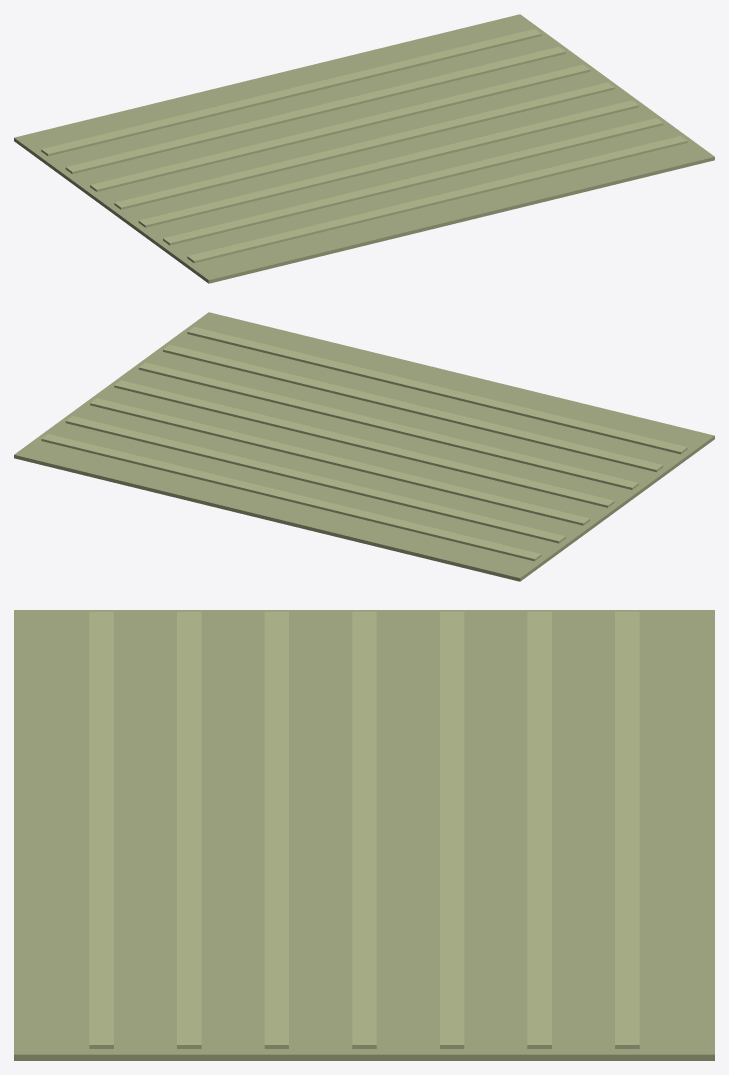
Rendered from crop-1.glb.
3 renders of one model, top to bottom at view 1: azimuth 30°, elevation 25°; view 2: azimuth 150°, elevation 25°; view 3: azimuth 270°, elevation 25°, orthographic. The views are drawn at different scales.
Size of the model in its own units: 12 by 0.13 by 8.
